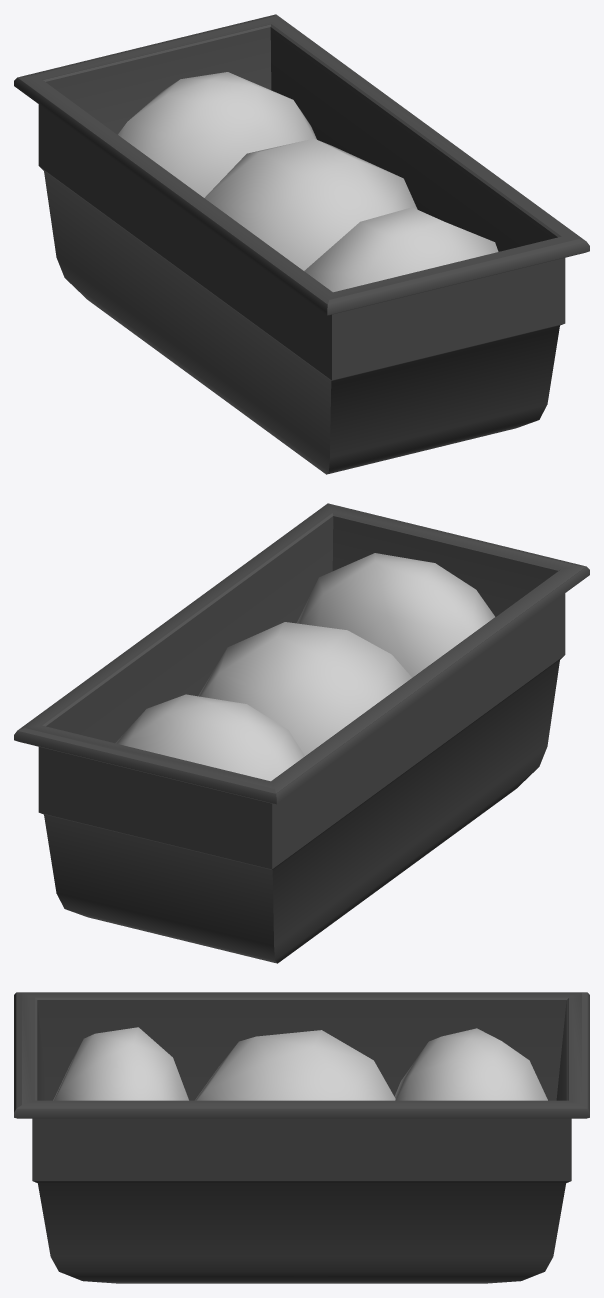
Rendered from LettuceSpawner.fbx.
3 renders of one model, top to bottom at view 1: azimuth 30°, elevation 25°; view 2: azimuth 150°, elevation 25°; view 3: azimuth 270°, elevation 25°, orthographic. The views are drawn at different scales.
Parts seen in each view (by area): view 1: Cube; view 2: Cube; view 3: Cube.
Boxes of the visible parts, x1,y1,x2,y2 form: Cube: (14, 14, 589, 474); Cube: (14, 503, 589, 963); Cube: (14, 992, 589, 1283).
Bounding box in the file's own units: 241 × 205 × 499.
